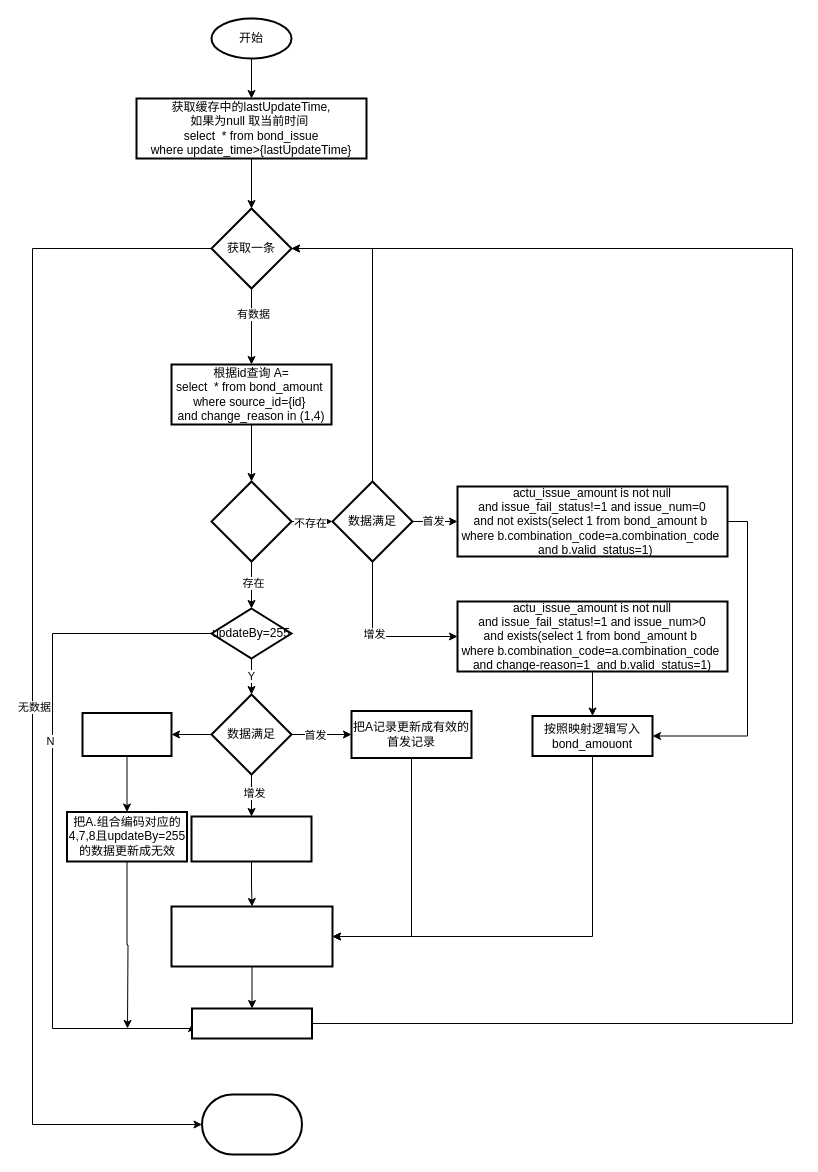
The diagram is 818 pixels wide and 1172 high, and some of its shapes have lost their labels. The shapes that lost their labels are listed below. From the top down, each one's centre as x and y in pixels, then its label:
At (x=251, y=521): "是否存在".
At (x=126, y=734): "把A标记无效".
At (x=251, y=838): "把A记录更新成有效的增发发记录".
At (x=251, y=936): "更新change_reason in (4.7.8)且updateBy=255,和max(change_date)相关的字段(当4,7,8和1相临时)".
At (x=251, y=1023): "空处理".
At (x=251, y=1124): "结束".
